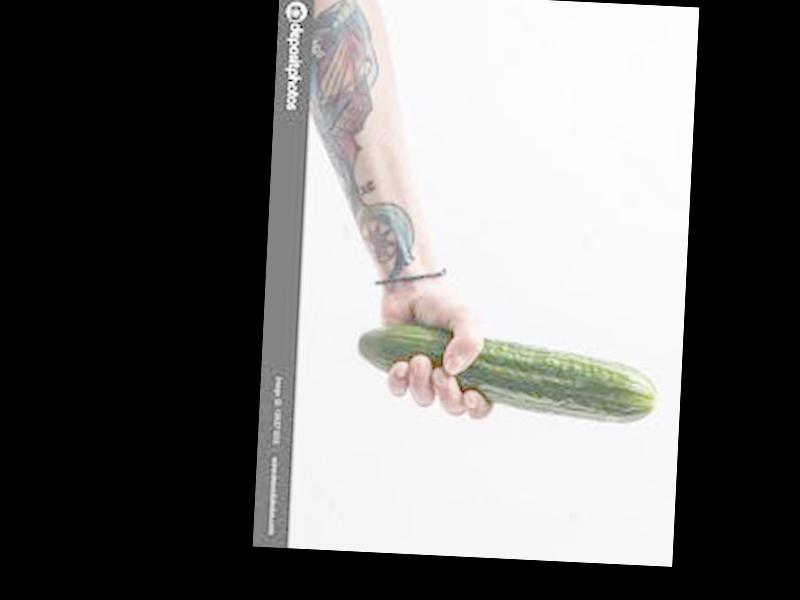Cucumber: (357, 324, 663, 425)
